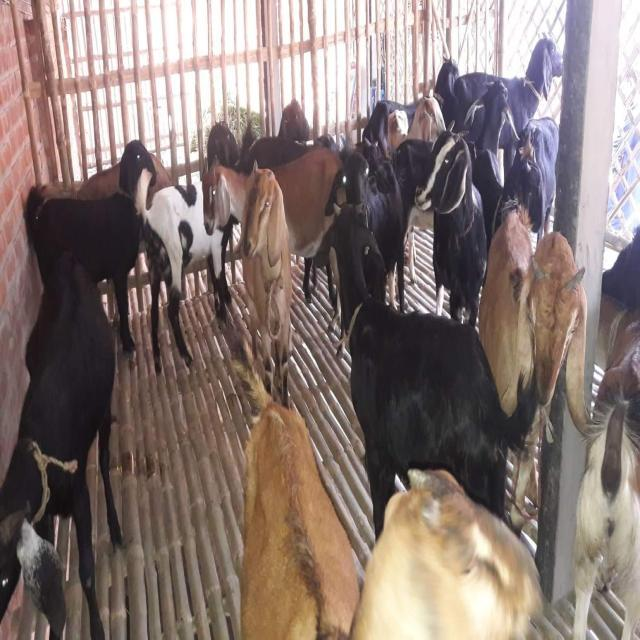Goat: (2, 32, 637, 637), (312, 200, 538, 541), (0, 249, 123, 638), (232, 336, 360, 638), (348, 467, 545, 639), (571, 316, 639, 638)
